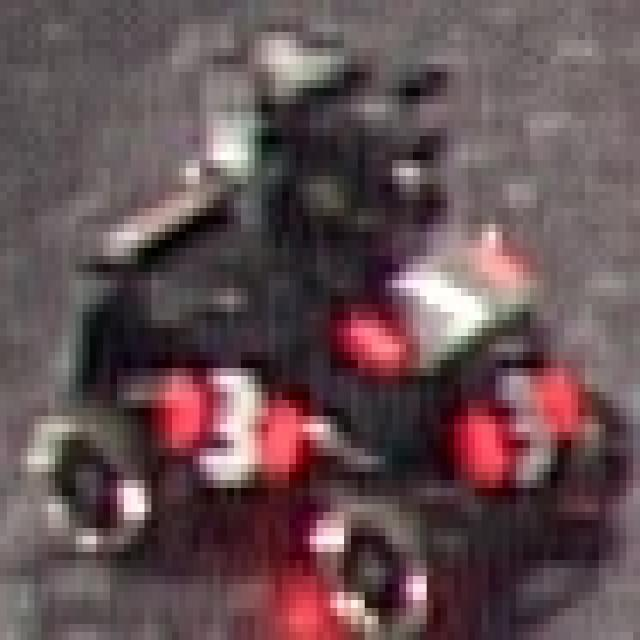R3: (165, 360, 296, 496), (447, 360, 585, 488)
